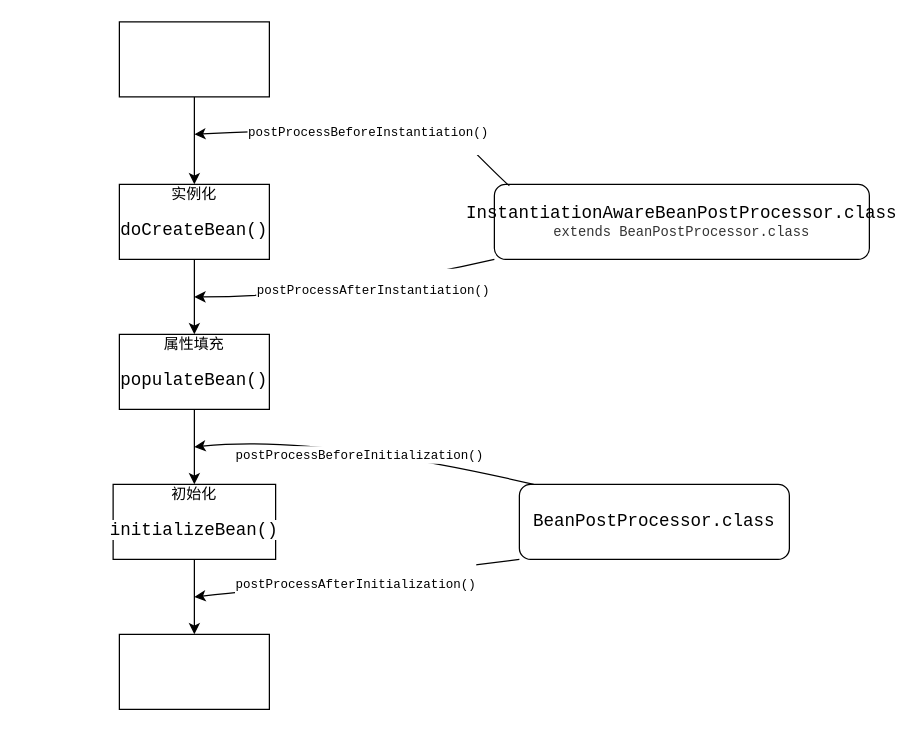
The diagram is 919 pixels wide and 731 high, and some of its shapes have lost their labels. The shapes that lost their labels are listed below. From the top down, each one's centre as x and y in pixels, then its label:
point 193,59: BeanDefinition
point 193,671: 销毁 registerDisposableBeanIfNecessary
